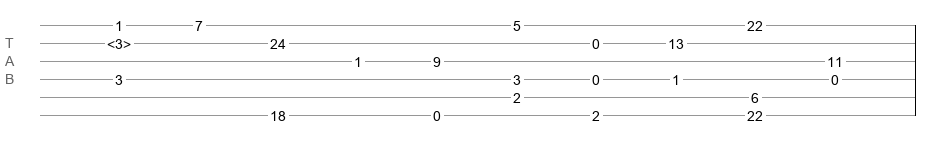0: (433, 108, 441, 118), (592, 72, 600, 82), (592, 36, 600, 46), (831, 72, 839, 82)
1: (115, 18, 123, 28), (354, 54, 362, 64), (672, 72, 680, 82)
11: (827, 54, 843, 64)
13: (668, 36, 684, 46)
18: (270, 108, 286, 118)
2: (513, 90, 521, 100), (592, 108, 600, 118)
22: (747, 18, 763, 28), (747, 108, 763, 118)
24: (270, 36, 286, 46)
3: (115, 72, 123, 82), (513, 72, 521, 82)
5: (513, 18, 521, 28)
6: (751, 90, 759, 100)
7: (195, 18, 203, 28)
9: (433, 54, 441, 64)
harmonic: (107, 36, 131, 46)
